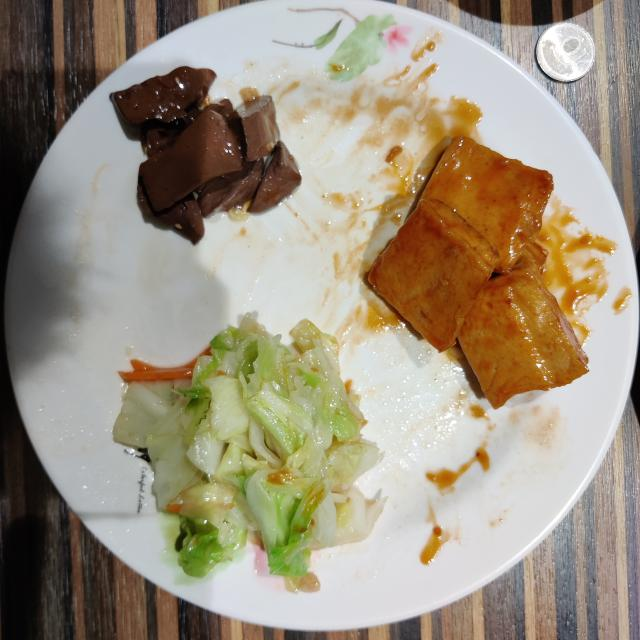cabbage: (114, 315, 384, 580)
coin: (536, 22, 595, 81)
creamy tofu: (369, 136, 588, 408)
pig blood curd: (111, 66, 300, 244)
